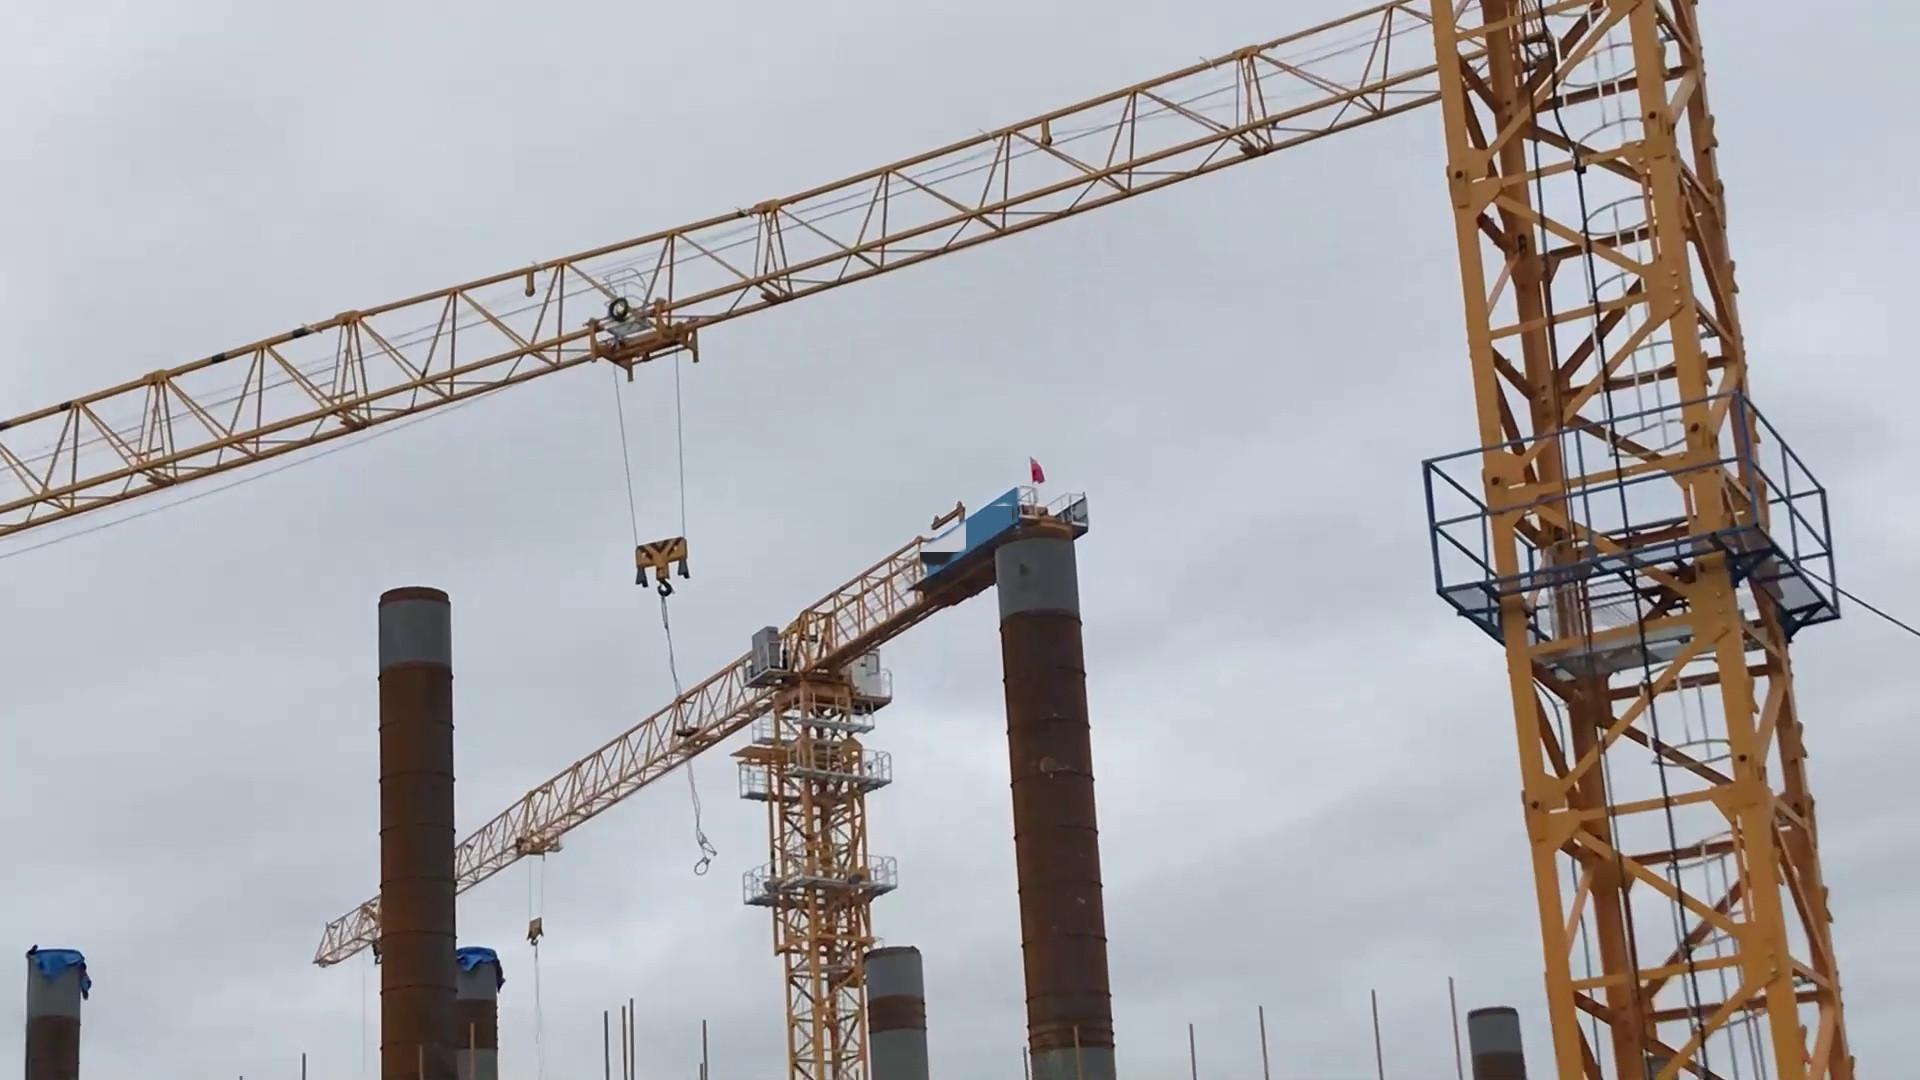hook: (608, 527, 712, 611)
